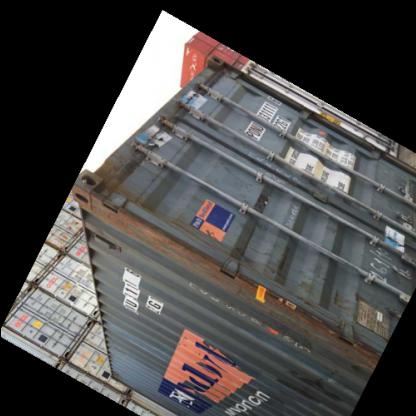Damage: (216, 245, 296, 319), (75, 158, 138, 224), (278, 366, 338, 404), (152, 99, 182, 133), (173, 320, 197, 362)
